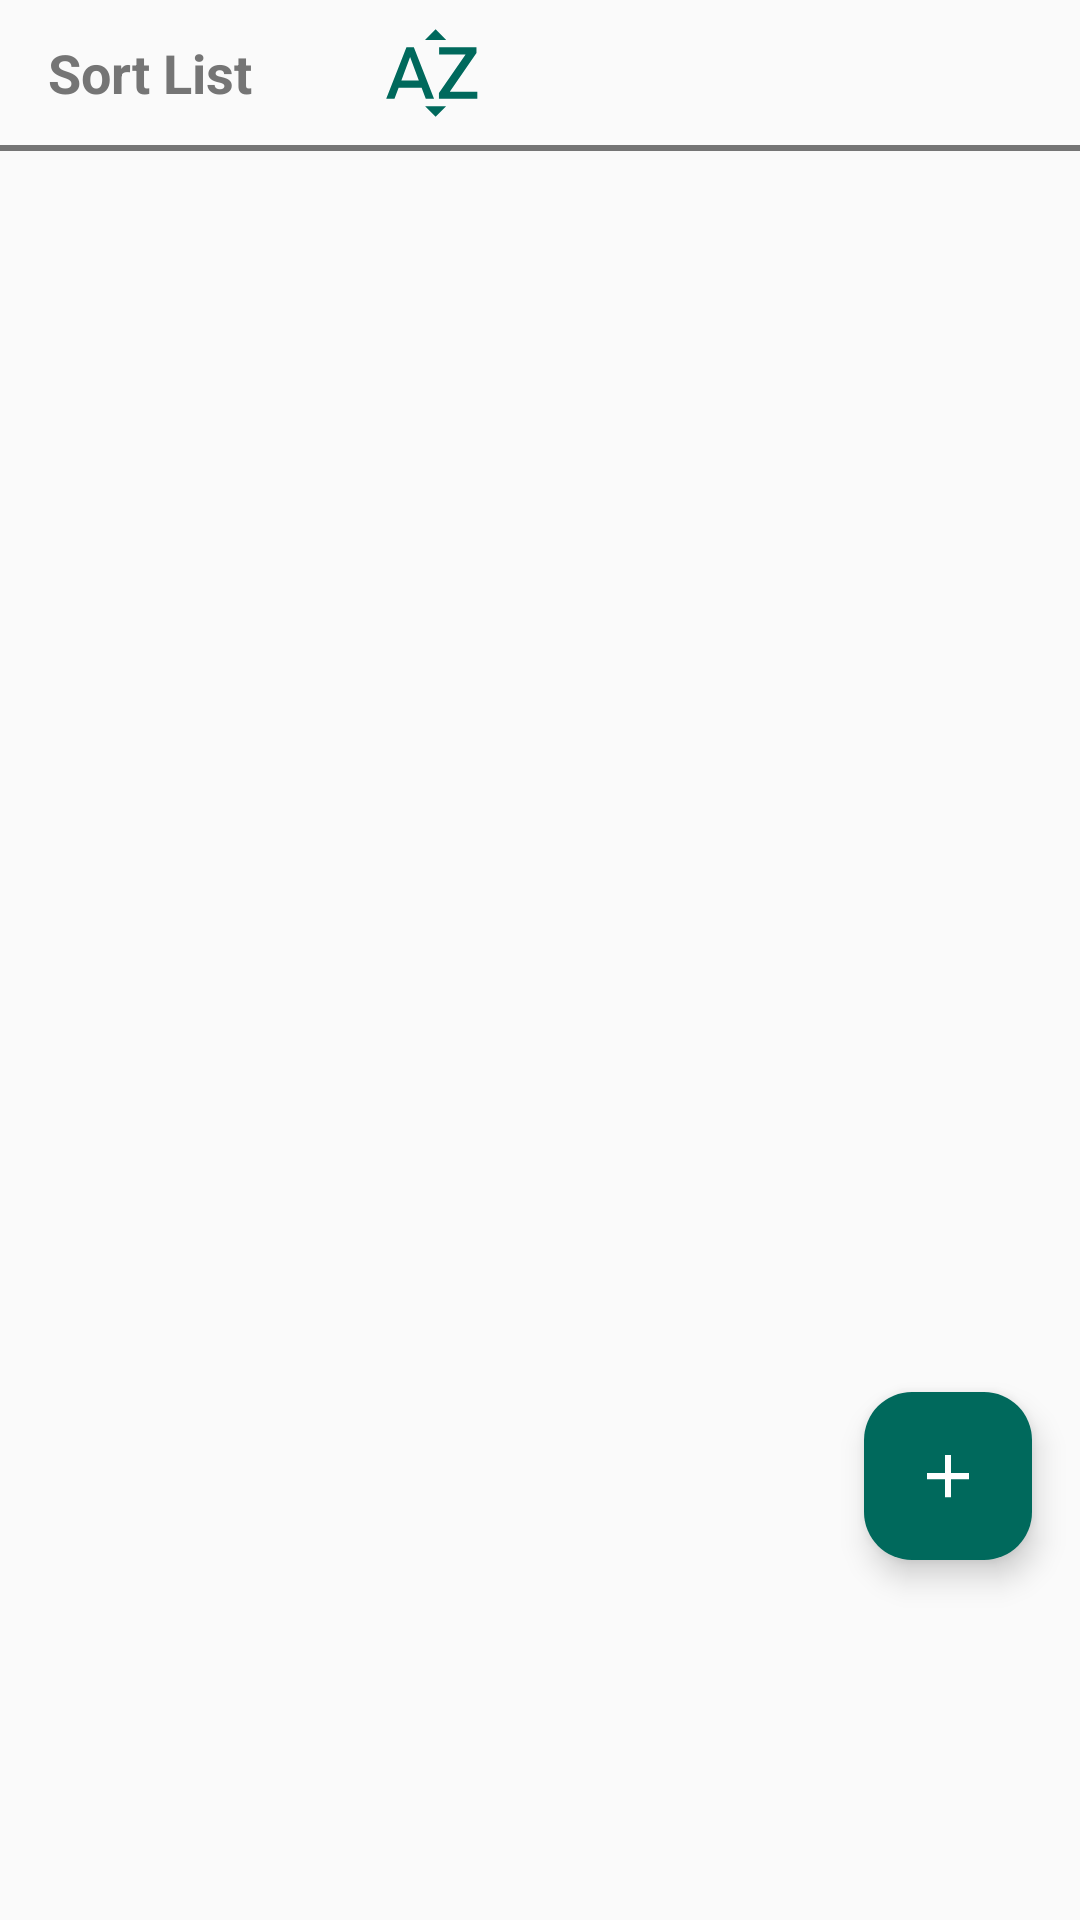

Where to tap for icons on this 1080px x 1920px app screen, as (x,y):
Add New Item: (948,1476)
